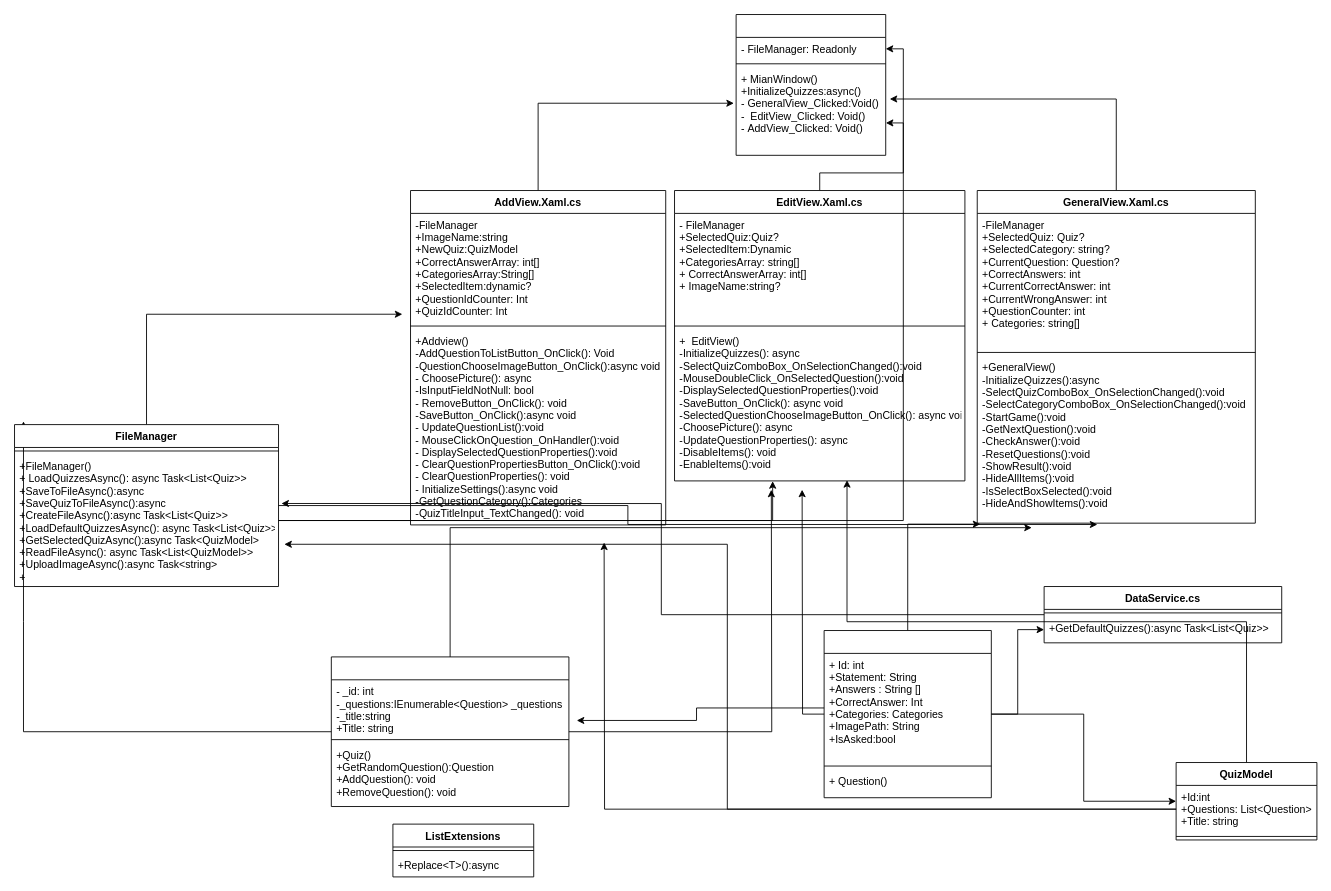
Image size: 1331x891. Some labels were removed from this diagram. The shapes that lost their labels are listed below. From the top down, each one's box as (x1, y1, x2, y2) in pixels, then its label:
(735, 14, 886, 155): MainWindow.Xaml.cs
(330, 656, 569, 807): Quiz.cs
(823, 630, 991, 798): Question.cs
